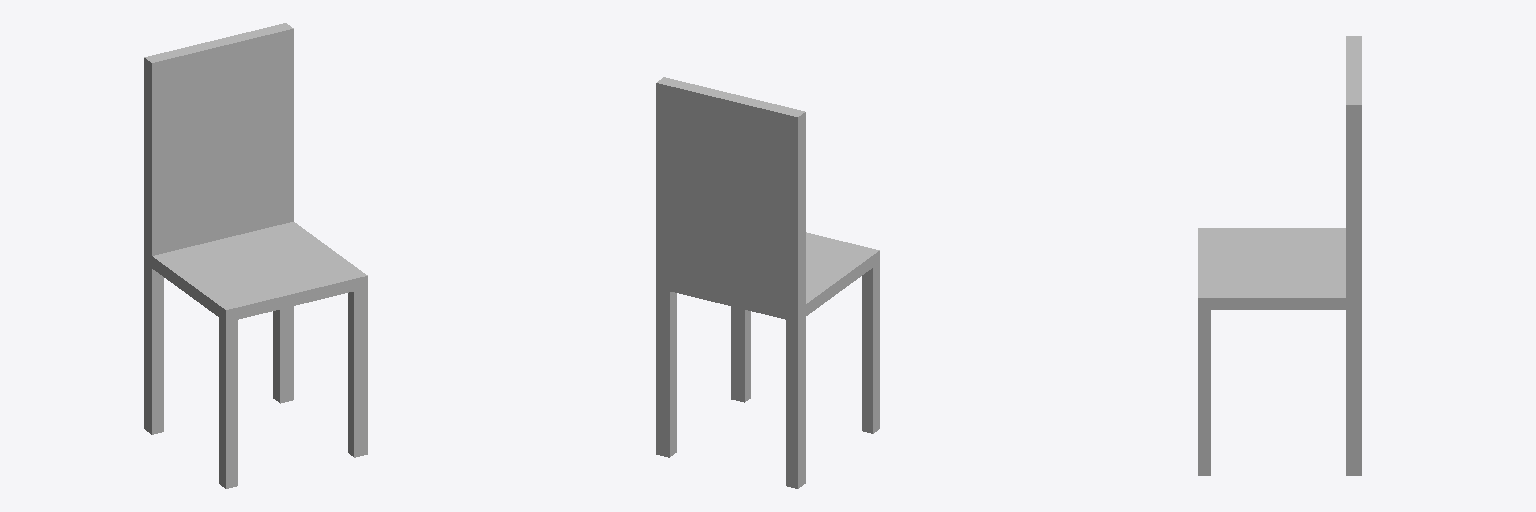
File: Scaun Inalt .obj
3 renders of one model, left to right at view 1: azimuth 30°, elevation 25°; view 2: azimuth 150°, elevation 25°; view 3: azimuth 270°, elevation 25°, orthographic.
Parts seen in each view (by area): view 1: Cube; view 2: Cube; view 3: Cube.
Part boxes in pixels (left/top/right/bottom): Cube: left=144, top=23, right=367, bottom=488; Cube: left=656, top=77, right=879, bottom=488; Cube: left=1198, top=36, right=1361, bottom=475.
Bounding box in the file's own units: 2 × 5.01 × 2.